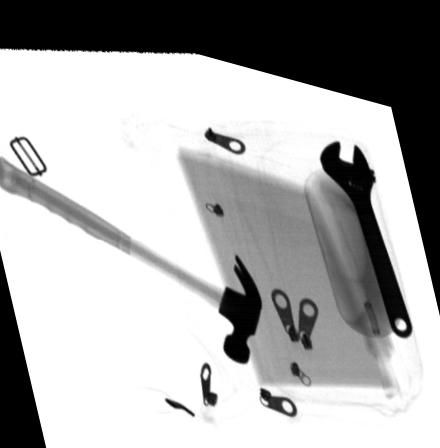Hammer: (0, 155, 262, 350)
Wrench: (319, 122, 413, 315)
